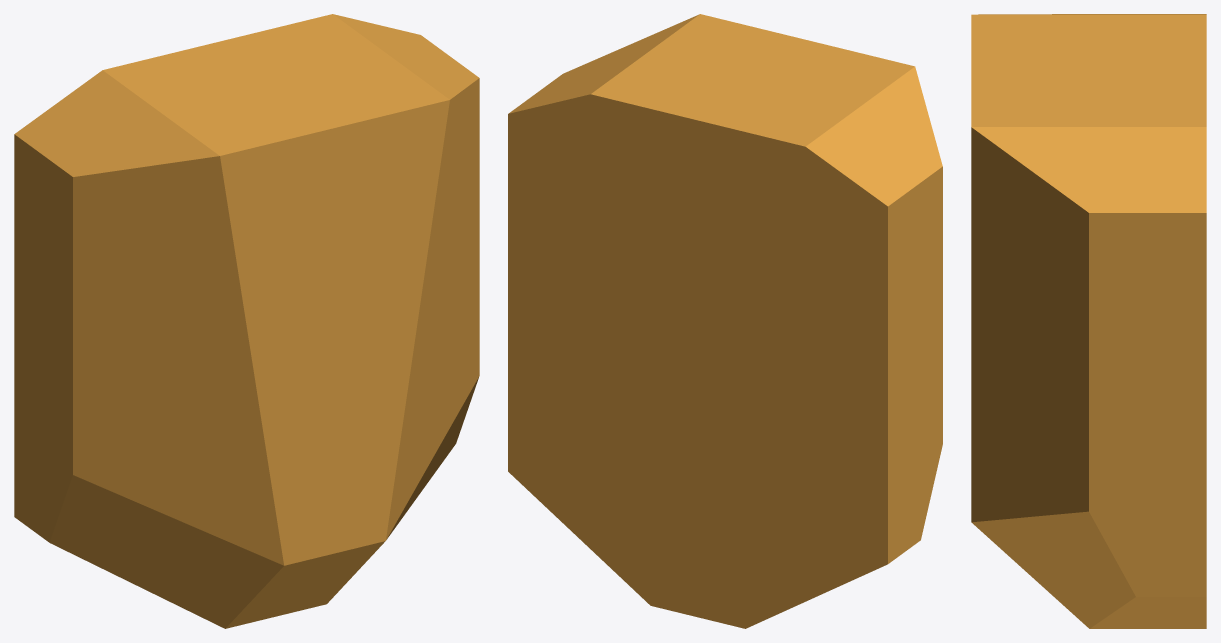
The model's file is props-wallbox.glb.
3 renders of one model, left to right at view 1: azimuth 30°, elevation 25°; view 2: azimuth 150°, elevation 25°; view 3: azimuth 270°, elevation 25°, orthographic. The views are drawn at different scales.
Parts seen in each view (by area): view 1: wallbox; view 2: wallbox; view 3: wallbox.
Part boxes in pixels (x1=…): wallbox: x1=14, y1=14, x2=479, y2=628; wallbox: x1=508, y1=14, x2=942, y2=628; wallbox: x1=971, y1=14, x2=1206, y2=628.
Bounding box in the file's own units: 0.2 × 0.25 × 0.1.
